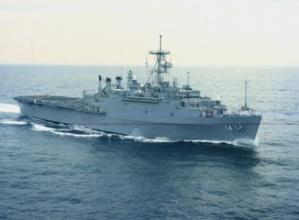warship: (11, 69, 274, 147)
